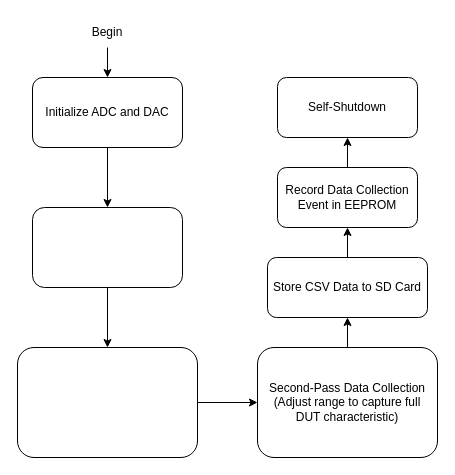
This 455x475 diagram has some shape labels left out. Here are the shapes that lost their labels. From the top down, the centre of each, then its label:
At point (107, 247): "Initialize SD Card Reader, Create Unique Logfile".
At point (107, 402): "First-Pass Data Collection (Use default range)".
